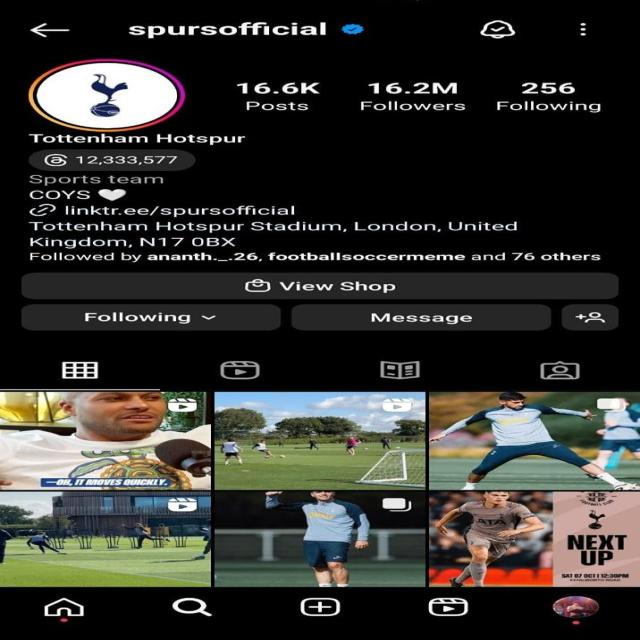Drawer: (551, 593, 601, 626), (565, 305, 618, 331), (43, 596, 86, 623), (378, 360, 423, 380), (220, 361, 262, 381), (172, 596, 212, 617), (61, 360, 99, 382), (540, 360, 580, 380), (300, 597, 340, 617), (427, 597, 468, 616), (478, 20, 518, 38), (31, 22, 73, 38), (382, 396, 414, 414), (242, 276, 272, 294), (167, 498, 198, 513), (599, 399, 629, 414), (383, 498, 413, 513), (29, 203, 58, 218), (169, 397, 198, 412), (577, 23, 590, 38)
EditText: (216, 391, 427, 490), (1, 391, 212, 489), (1, 490, 211, 588), (429, 393, 640, 490), (214, 491, 424, 587), (431, 492, 639, 587), (25, 57, 186, 132), (552, 596, 600, 617), (343, 24, 364, 34)
Icon: (63, 205, 298, 218)
Modal: (30, 220, 521, 232), (31, 252, 603, 262), (28, 130, 251, 147), (128, 20, 330, 38), (28, 235, 238, 249), (31, 173, 168, 185), (236, 80, 327, 97), (494, 99, 606, 112), (361, 100, 466, 112), (370, 81, 460, 94), (520, 81, 580, 95), (246, 100, 313, 112), (30, 190, 96, 200), (98, 189, 129, 201)
